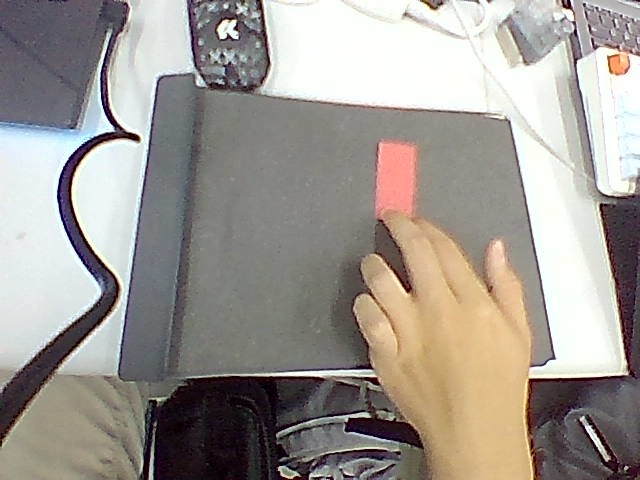card: (376, 140, 416, 219)
